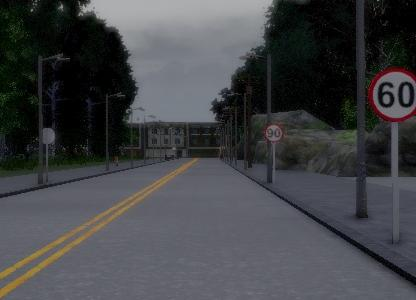Speed_60: (367, 64, 416, 121)
